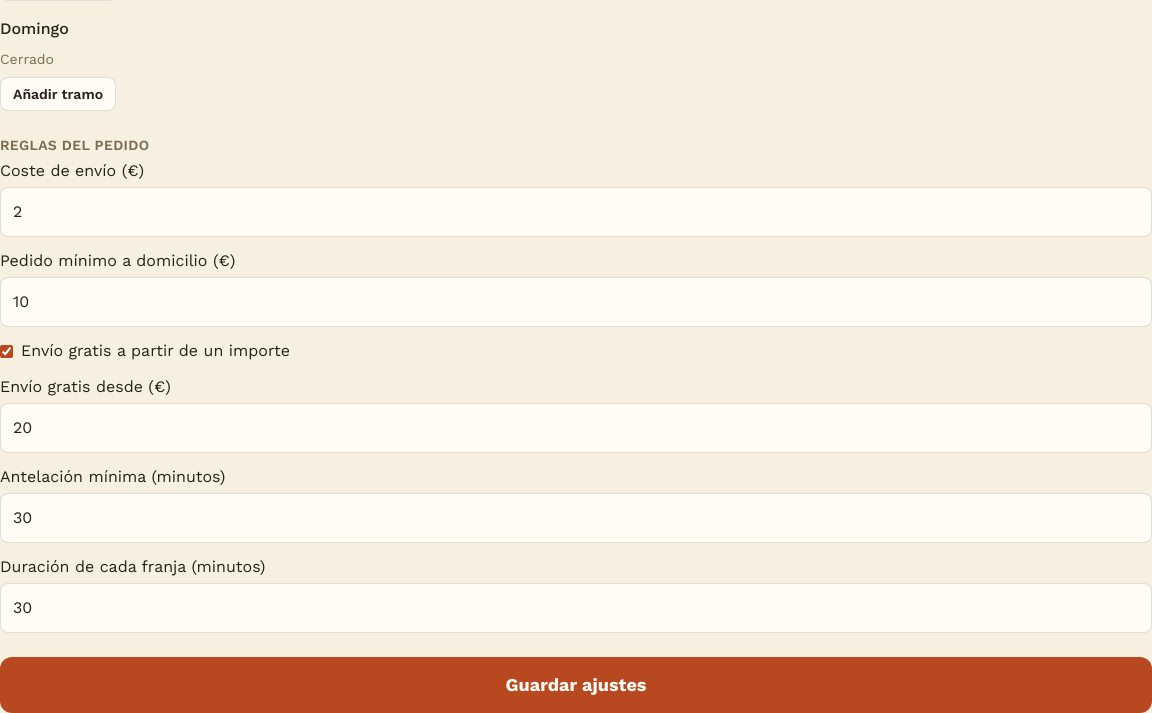
Test: FormularioAjustes › guarda los ajustes válidos
(page scrolled)
Click the button "Guardar ajustes". click: (576, 685)
box: 0,657 -> 1151,712
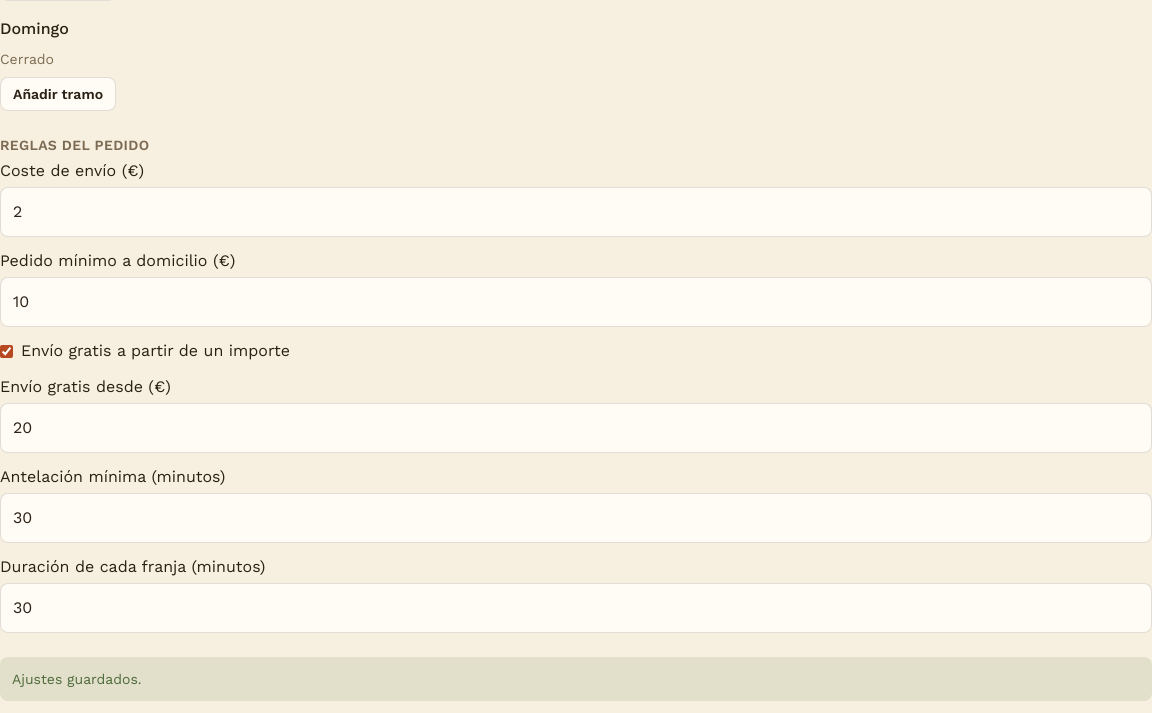
Check: the text "Ajustes guardados." is shown, box 0,657 -> 1151,701
